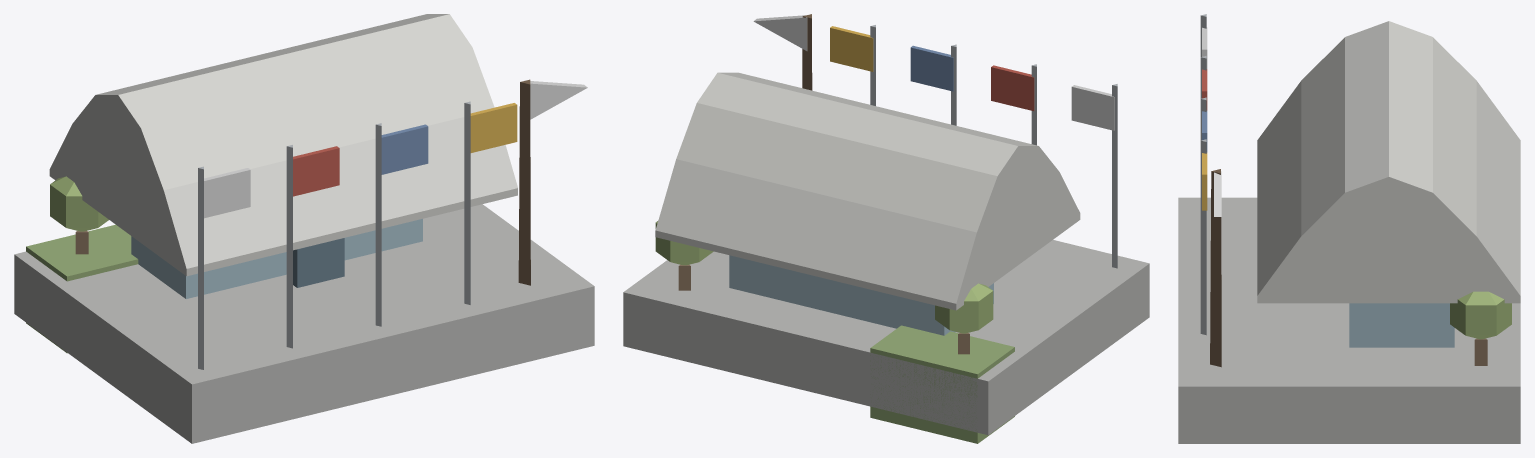
The model's file is national-national-visitor-center.glb.
3 views of the same model, side by side, from view 1: azimuth 30°, elevation 25°; view 2: azimuth 150°, elevation 25°; view 3: azimuth 270°, elevation 25° (orthographic). The views are drawn at different scales.
Visible parts, largest first — view 1: LOD0; view 2: LOD0; view 3: LOD0.
Part boxes in pixels (x1,y1,x2,y2): LOD0: (14, 14, 594, 443); LOD0: (623, 14, 1149, 443); LOD0: (1178, 14, 1520, 443).
Size of what is drawn, in the model's own units: 0.35 by 0.22 by 0.26.
